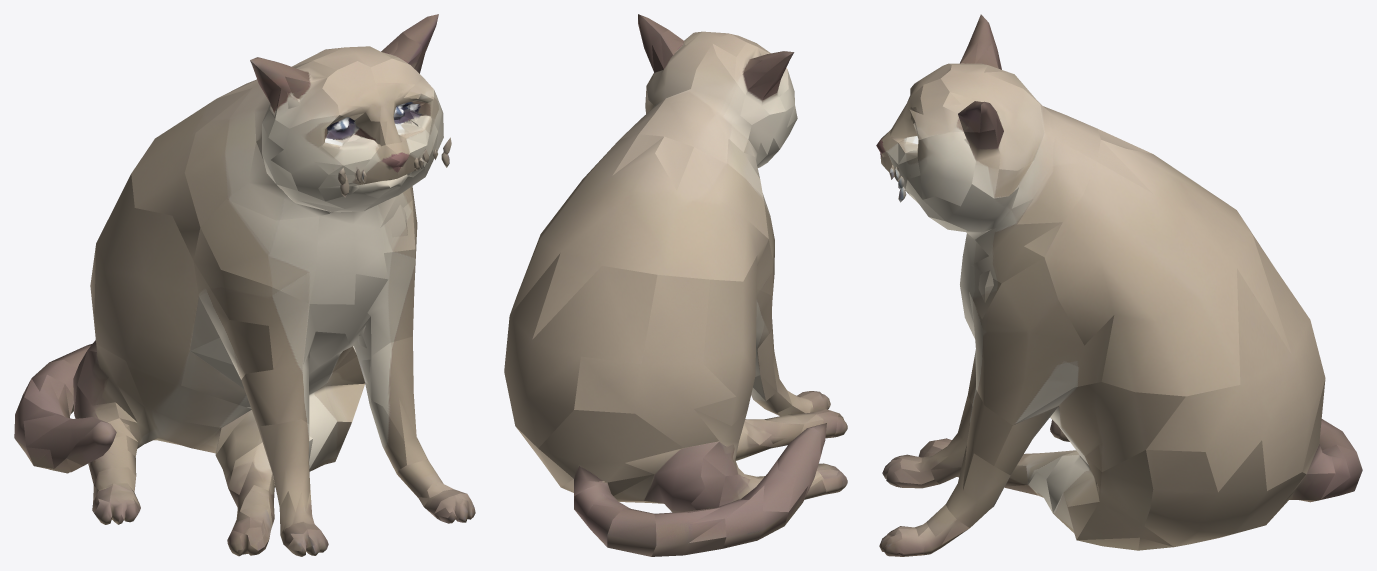
The model's file is sad-cream-cat.glb.
3 renders of one model, left to right at view 1: azimuth 30°, elevation 25°; view 2: azimuth 150°, elevation 25°; view 3: azimuth 270°, elevation 25°, orthographic. The views are drawn at different scales.
Bounding box in the file's own units: 0.748 × 1 × 0.9434.
Materials: 1 (1 with a texture image).
